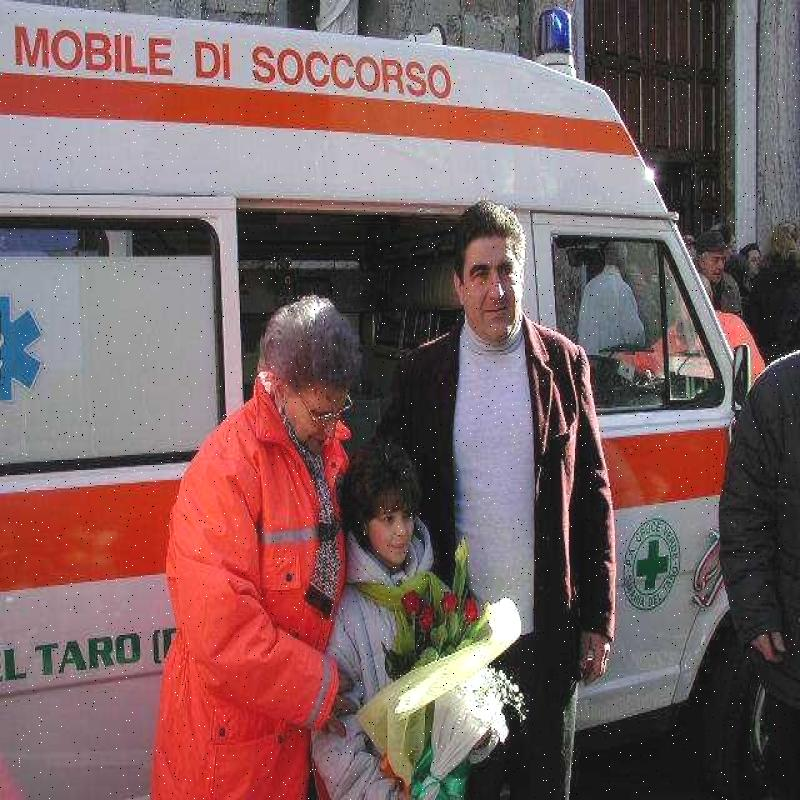AmbulanceSiren: (525, 7, 604, 120)
